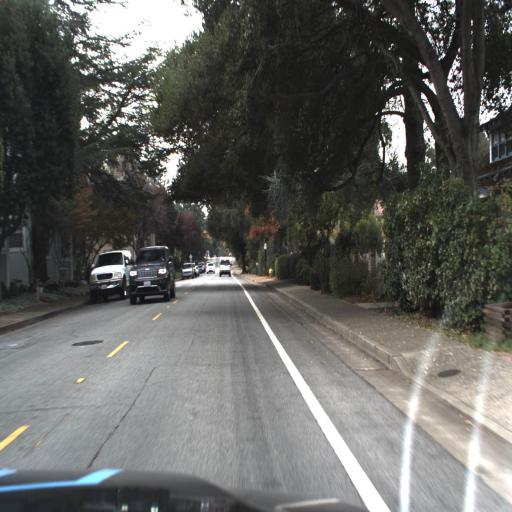car: (126, 245, 176, 305), (88, 247, 134, 301), (217, 254, 234, 282)
